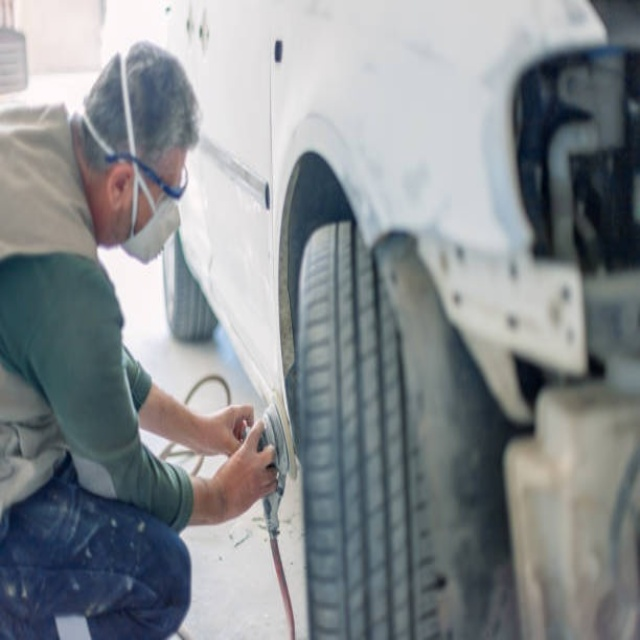Gafas: (102, 143, 189, 212)
Mascara: (118, 165, 182, 264)
Sin_guantes: (208, 419, 282, 523), (198, 397, 255, 461)
